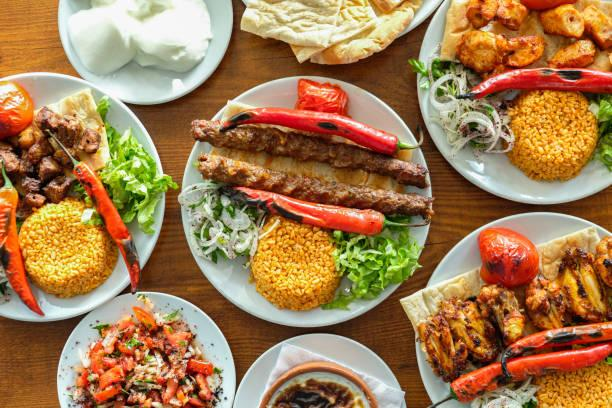Braised Crucian Carp: (186, 76, 424, 325), (416, 3, 607, 205)
